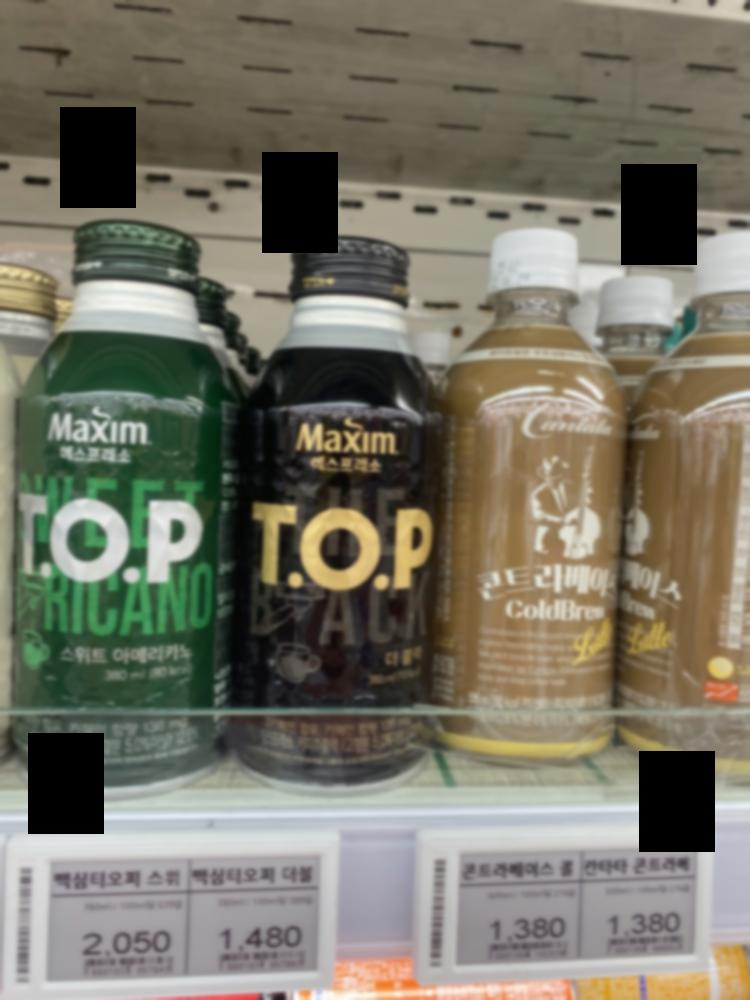TOP_black: (225, 230, 452, 788)
